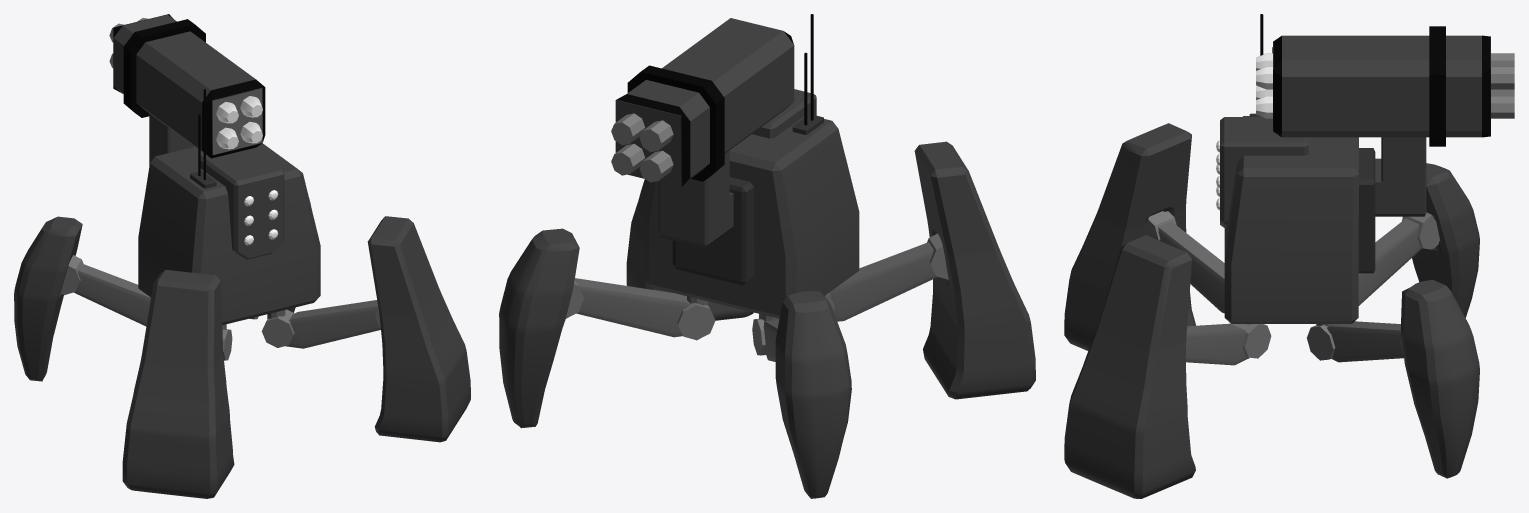
The model's file is enemy1_black.fbx.
3 views of the same model, side by side, from view 1: azimuth 30°, elevation 25°; view 2: azimuth 150°, elevation 25°; view 3: azimuth 270°, elevation 25° (orthographic). The views are drawn at different scales.
Visible parts, largest first — view 1: enemy1; view 2: enemy1; view 3: enemy1.
Part boxes in pixels (box(x1,y1,x2,y2)): enemy1: box(14, 14, 470, 498); enemy1: box(499, 14, 1035, 498); enemy1: box(1064, 14, 1514, 498).
Size of the model in its own units: 58.62 by 53.61 by 58.53.
Materials: 1 (1 with a texture image).
